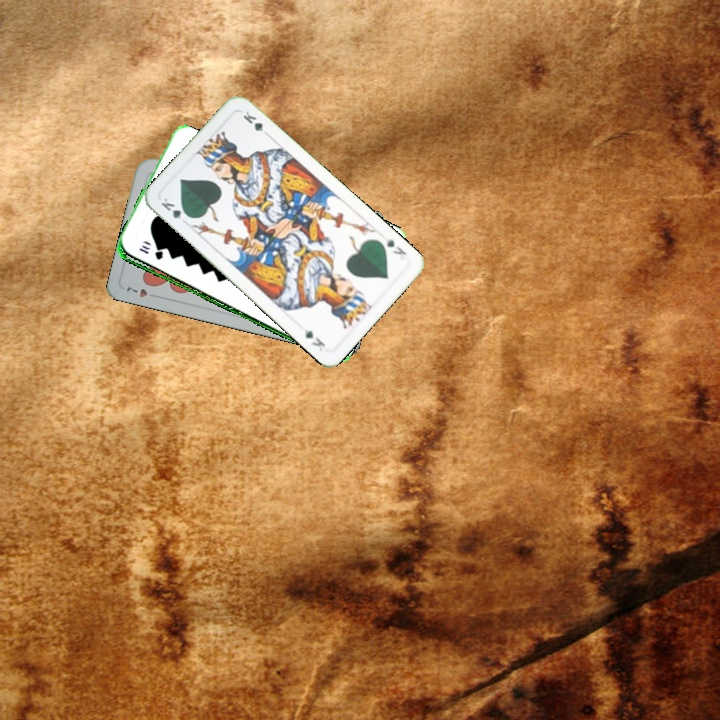G10: (135, 244, 166, 262)
GK: (156, 194, 193, 227), (381, 233, 409, 258)
H7: (122, 283, 161, 300)
